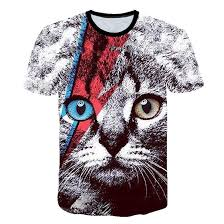cat: (59, 70, 167, 192)
